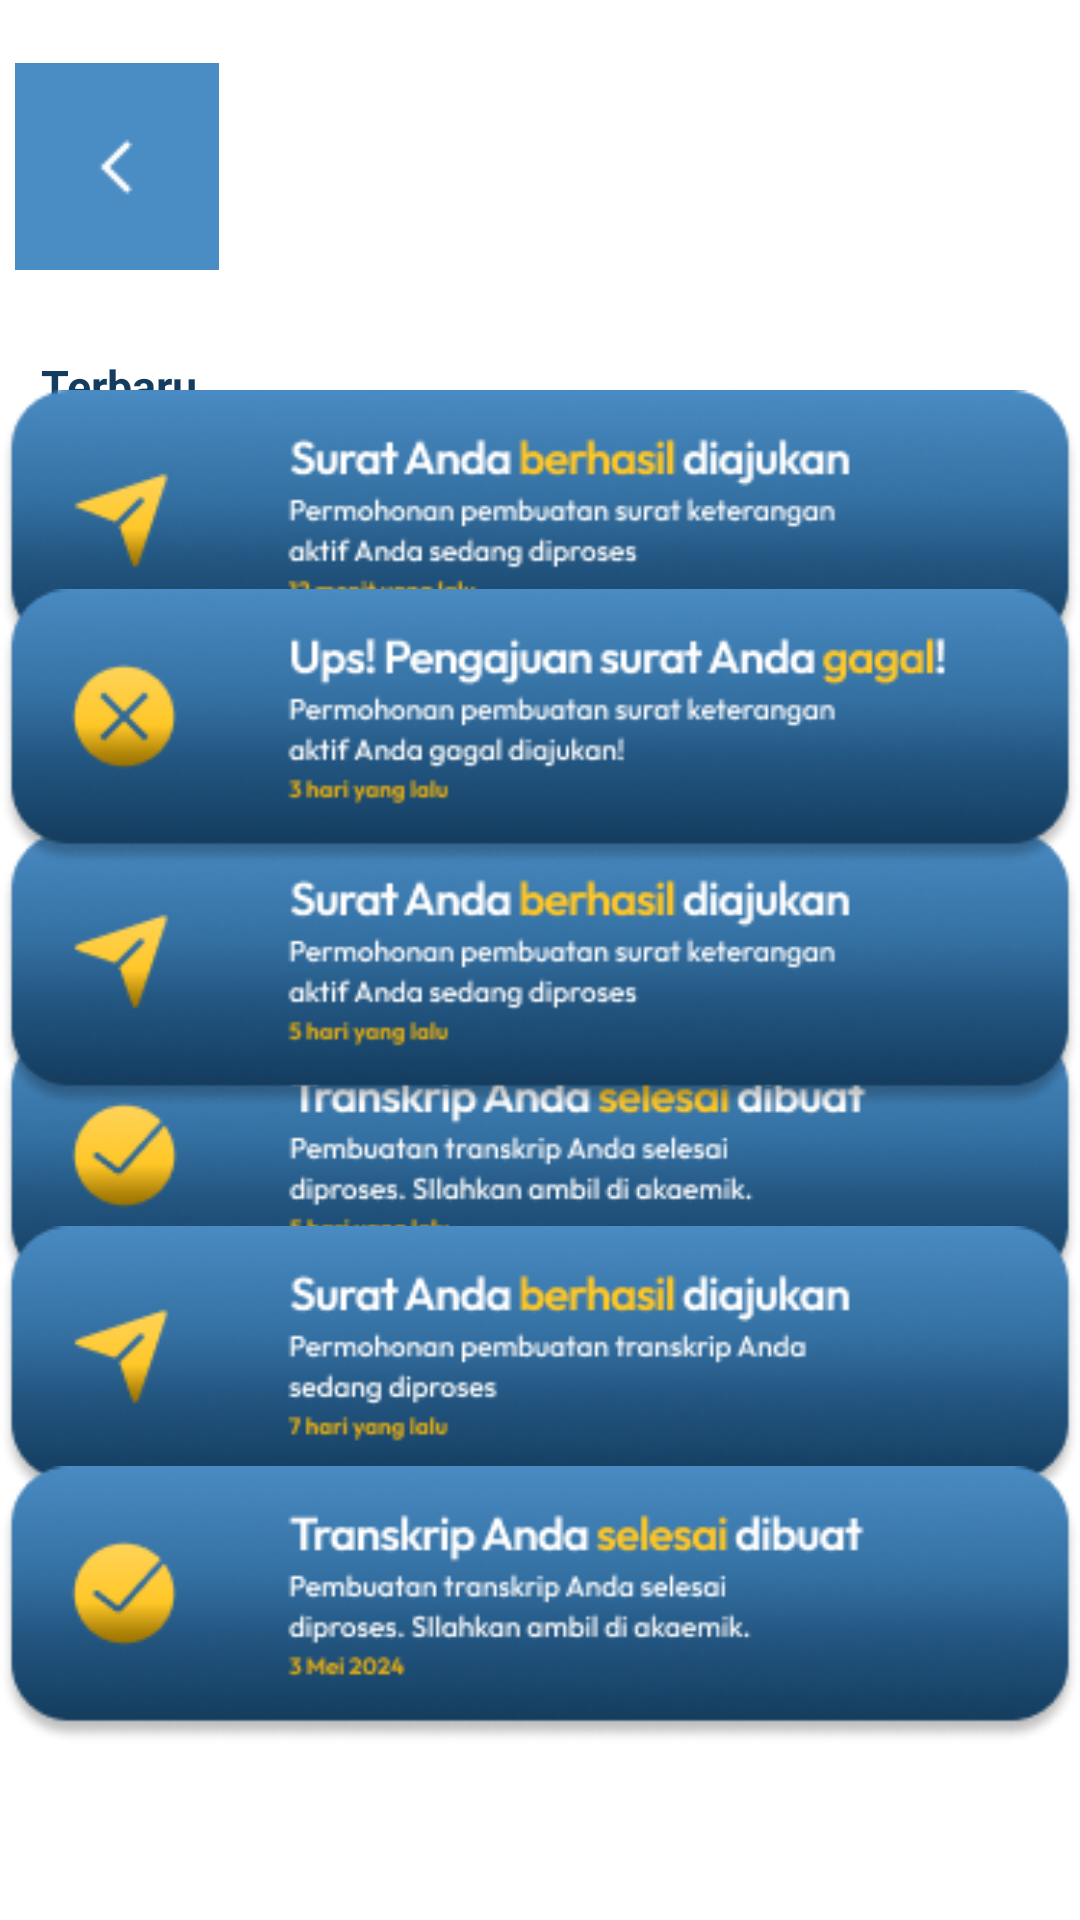

Icon bounding boxes for this 1080px×1920px phone screenshot, format rect(x1, y1, x2, y2):
back: rect(15, 63, 219, 270)
